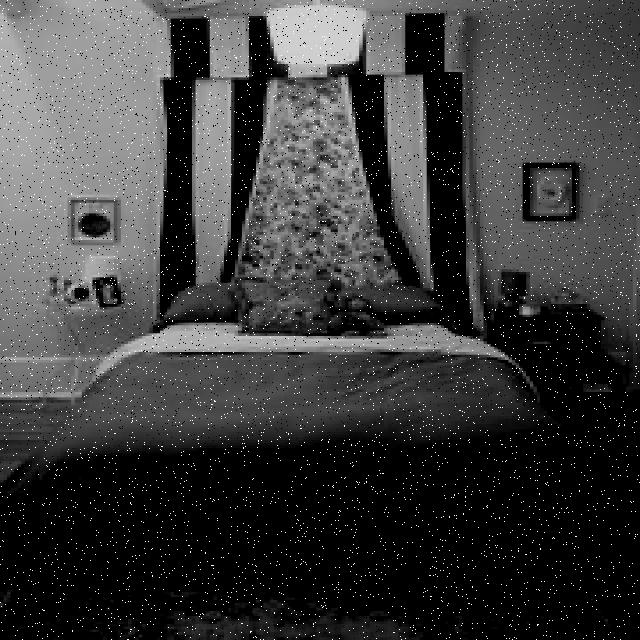bed: (23, 272, 608, 582)
